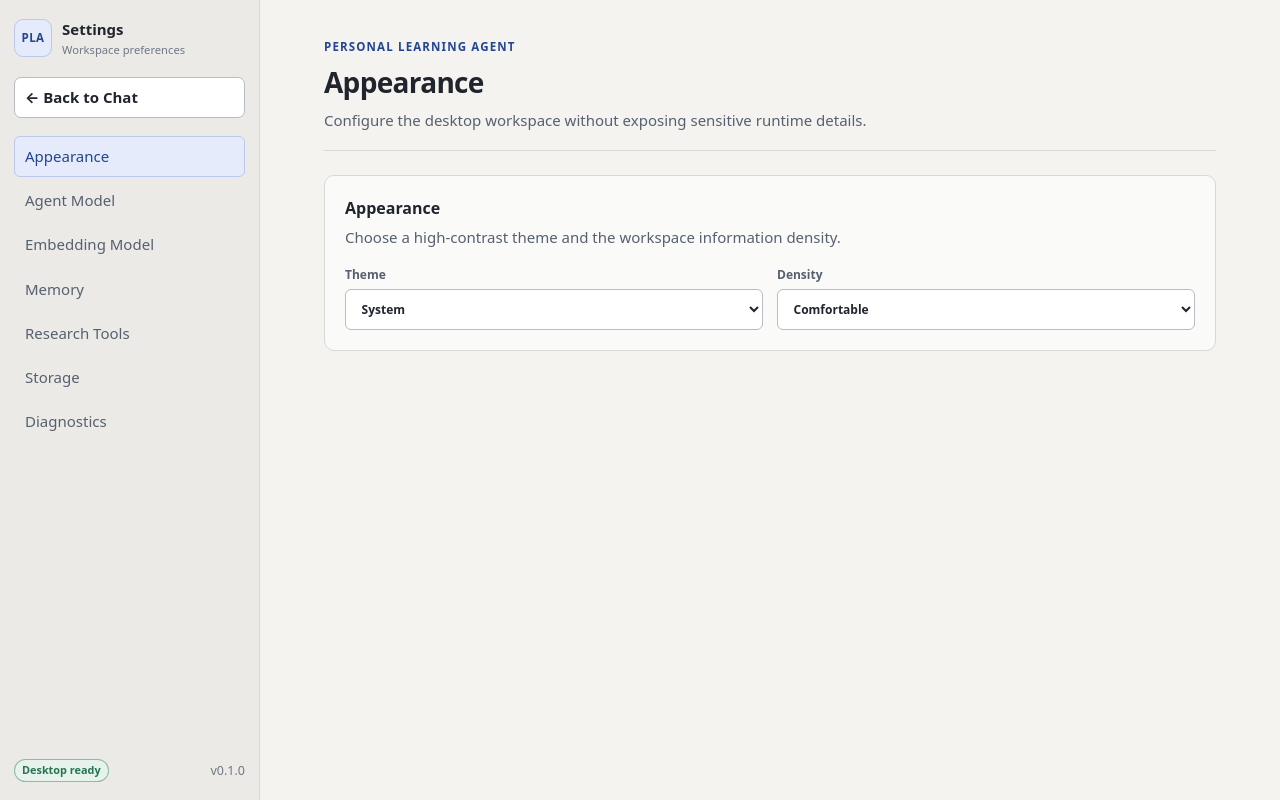
Test case: SettingsPage › tests a Provider without creating a conversation
Click the button "Agent Model": (130, 201) x1=14 y1=180 x2=245 y2=221
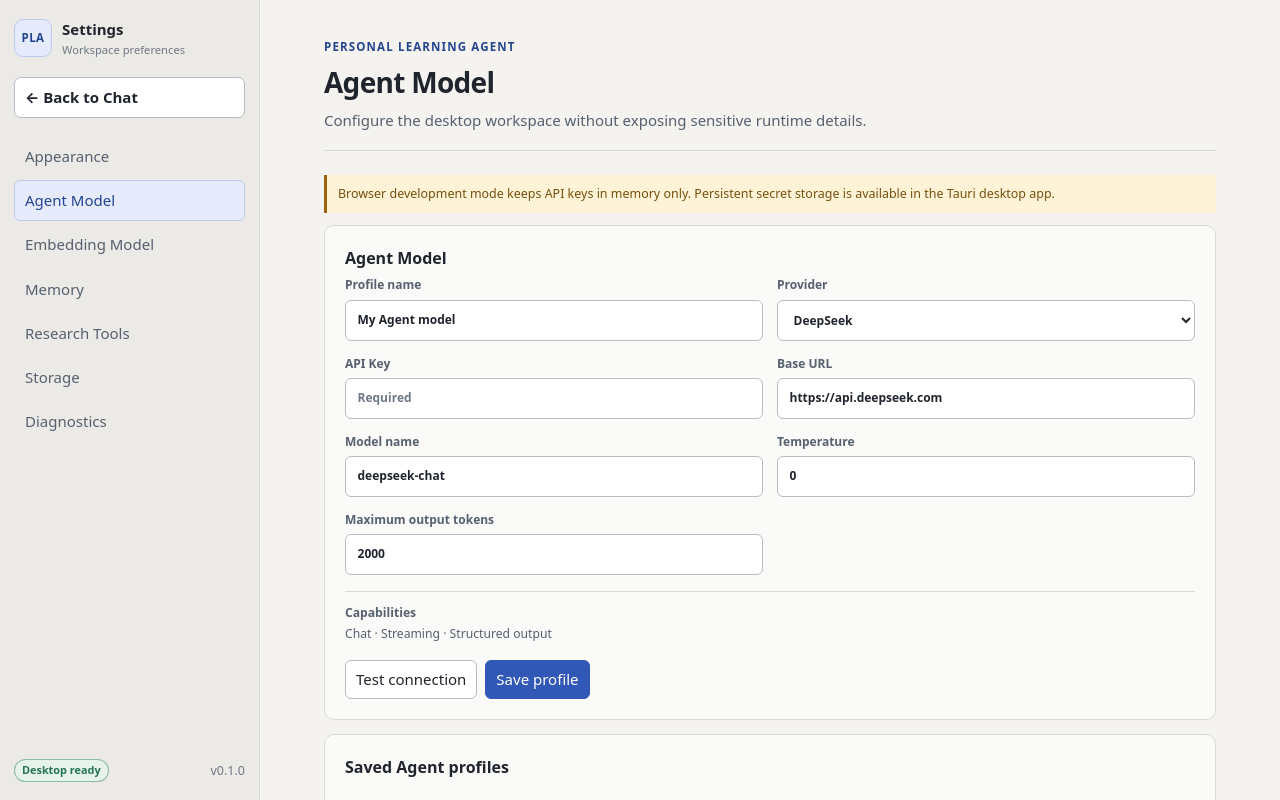
Click the button "Test connection": (411, 680) x1=345 y1=660 x2=477 y2=700
(page scrolled)
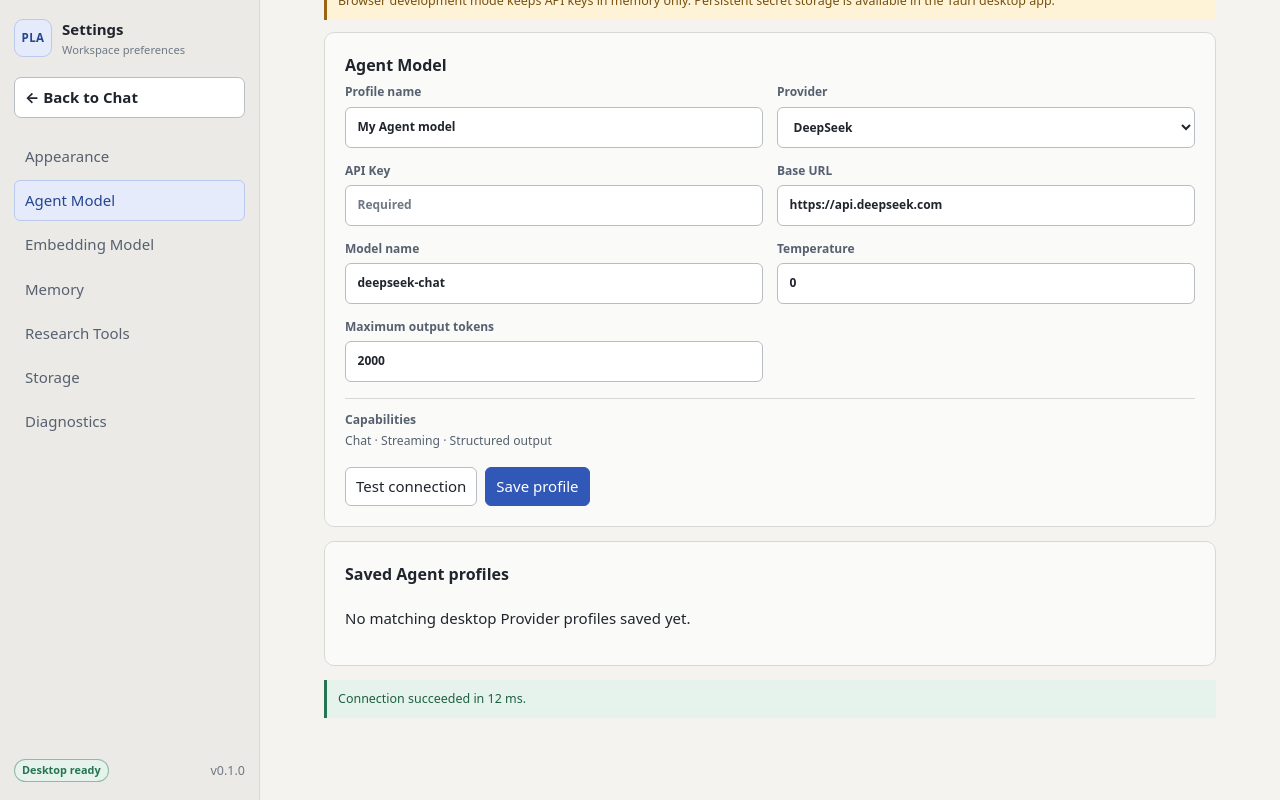
Expected: the text "Connection succeeded in 12 ms." is shown, x1=324 y1=680 x2=1216 y2=718
